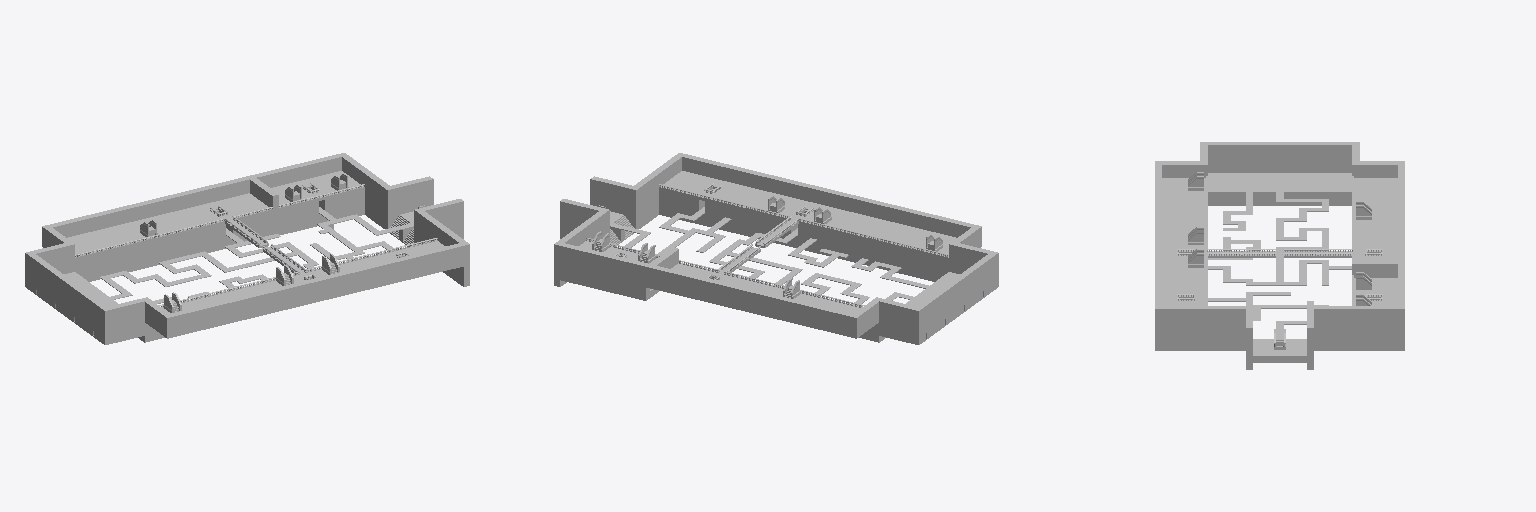
File: maze.obj
3 views of the same model, side by side, from view 1: azimuth 30°, elevation 25°; view 2: azimuth 150°, elevation 25°; view 3: azimuth 270°, elevation 25° (orthographic).
Parts seen in each view (by area): view 1: mergedBlocks; view 2: mergedBlocks; view 3: mergedBlocks.
Boxes of the visible parts, box(x1,y1,x2,y2) form: mergedBlocks: box(25, 153, 469, 344); mergedBlocks: box(554, 153, 998, 344); mergedBlocks: box(1155, 142, 1404, 369).
Bounding box in the file's own units: 58 × 6 × 33.